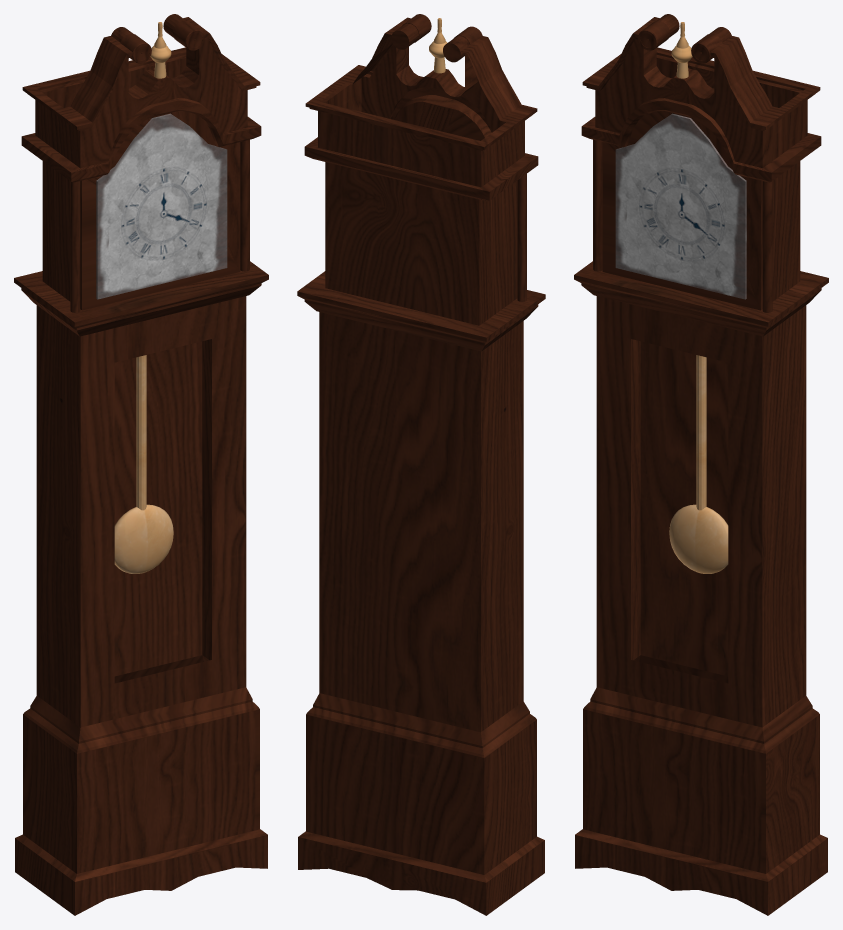
The model's file is old_grandfather_clock.glb.
3 renders of one model, left to right at view 1: azimuth 30°, elevation 25°; view 2: azimuth 150°, elevation 25°; view 3: azimuth 330°, elevation 25°, orthographic. The views are drawn at different scales.
Parts seen in each view (by area): view 1: Grandfather_Clock; view 2: Grandfather_Clock; view 3: Grandfather_Clock.
Boxes of the visible parts, x1=… form: Grandfather_Clock: x1=14, y1=14, x2=268, y2=915; Grandfather_Clock: x1=297, y1=14, x2=545, y2=915; Grandfather_Clock: x1=574, y1=14, x2=828, y2=915.
Size of the model in its own units: 0.4484 by 1.9 by 0.2425.
Materials: 1 (1 with a texture image).
